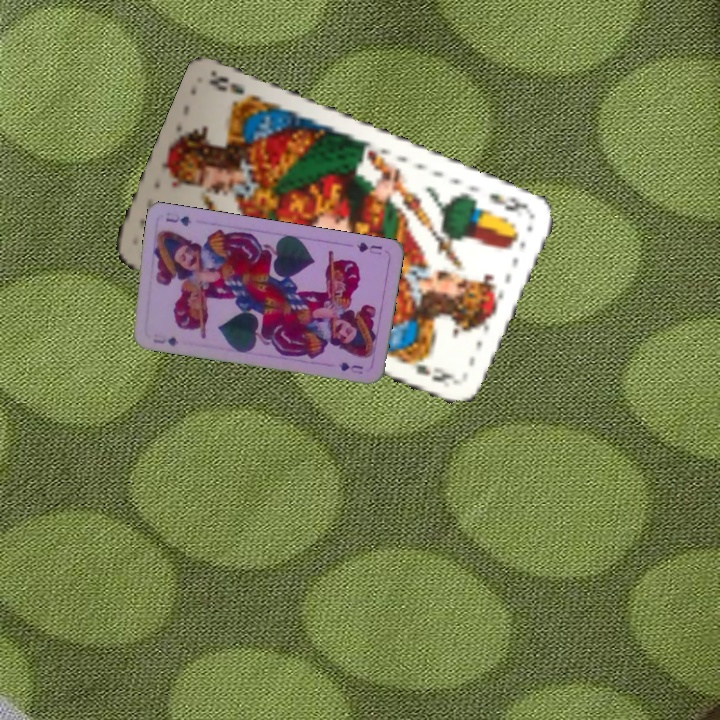EK: (484, 189, 533, 215)
GU: (352, 238, 385, 257), (149, 333, 181, 349)
